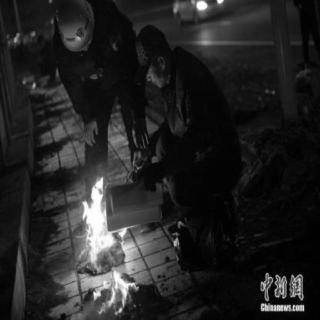other: (58, 7, 95, 51), (10, 27, 36, 47)
